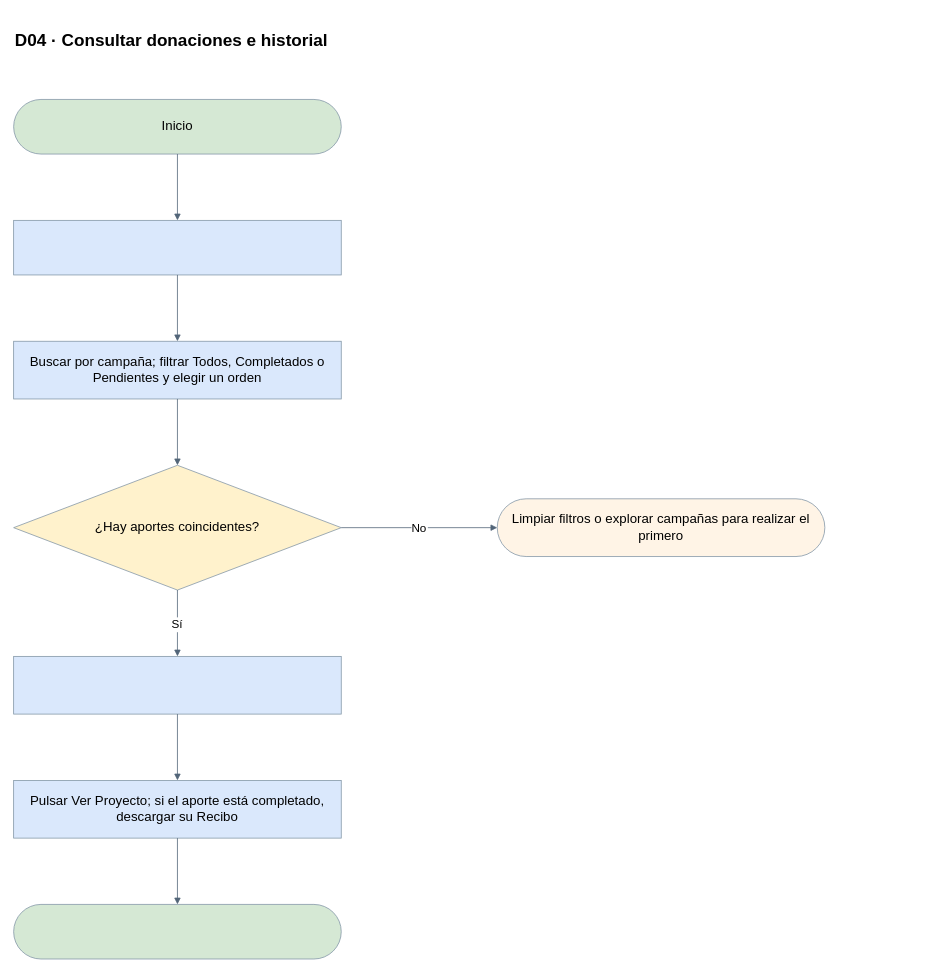
Image size: 948x973. Some labels were removed from this diagram. Each missing label, with the box of its shape:
Abrir Mi Panel y seleccionar Mis Aportes: (13, 220, 341, 275)
Fin: (13, 904, 341, 959)
Revisar campaña, fecha, monto y estado de cada aporte: (13, 656, 341, 714)
